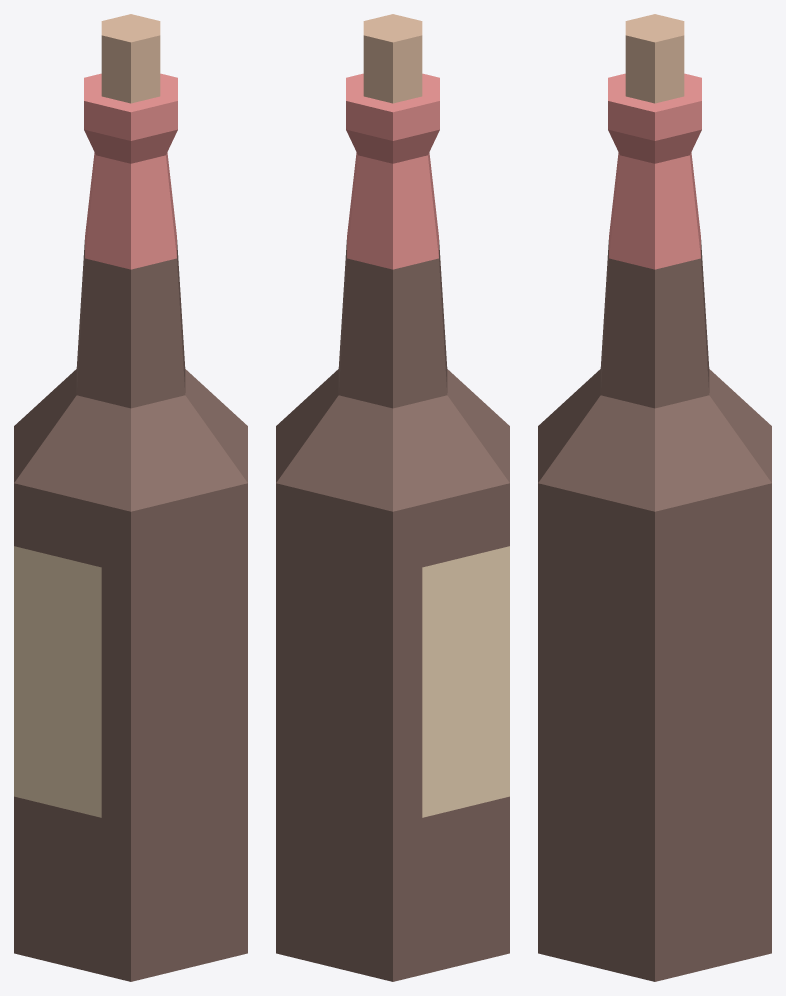
The model's file is wine_red.glb.
The picture shows the model from 3 angles, left to right: view 1: azimuth 30°, elevation 25°; view 2: azimuth 150°, elevation 25°; view 3: azimuth 270°, elevation 25°; orthographic projection.
Visible parts, largest first — view 1: wineRed; view 2: wineRed; view 3: wineRed.
Part boxes in pixels (x1,y1,x2,y2): wineRed: (14, 14, 247, 981); wineRed: (276, 14, 509, 981); wineRed: (538, 14, 771, 981).
Bounding box in the file's own units: 0.1908 × 0.6989 × 0.1652.
